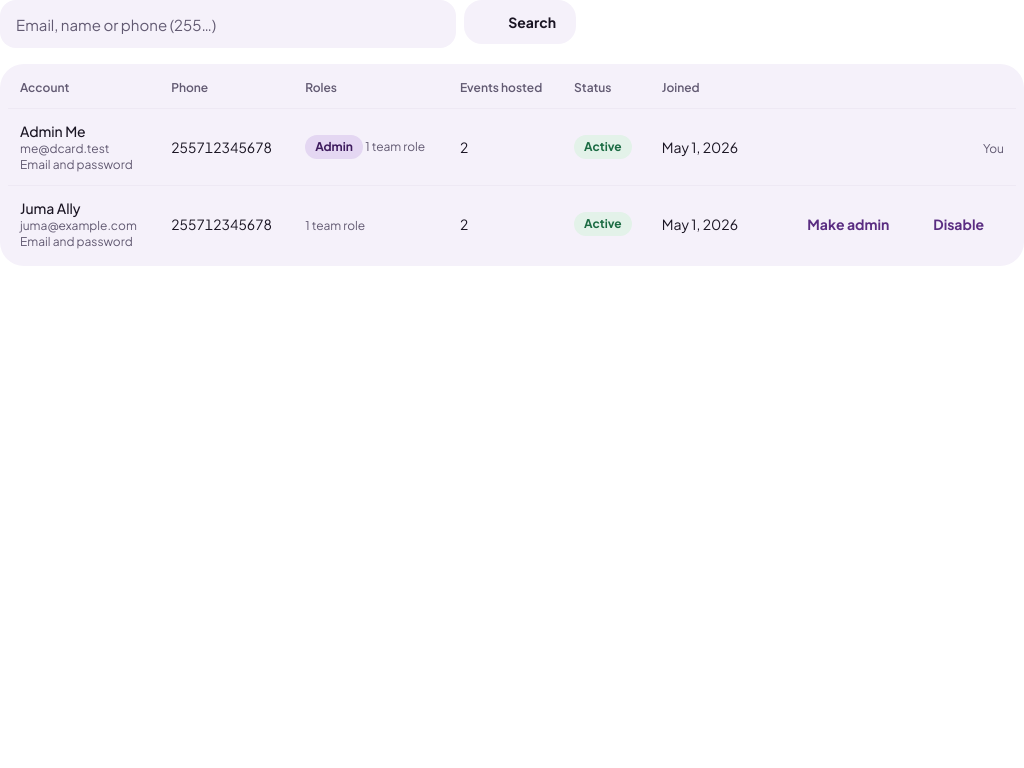
it: UsersAdmin › searches, disables with a confirm and grants admin
expect the text "Active" in the row of "Juma Ally" is shown: met, box [584, 216, 622, 231]
expect the text "You" is shown: met, box [983, 141, 1004, 156]
Click the button "Disable".
click(959, 224)  # box [913, 202, 1004, 246]
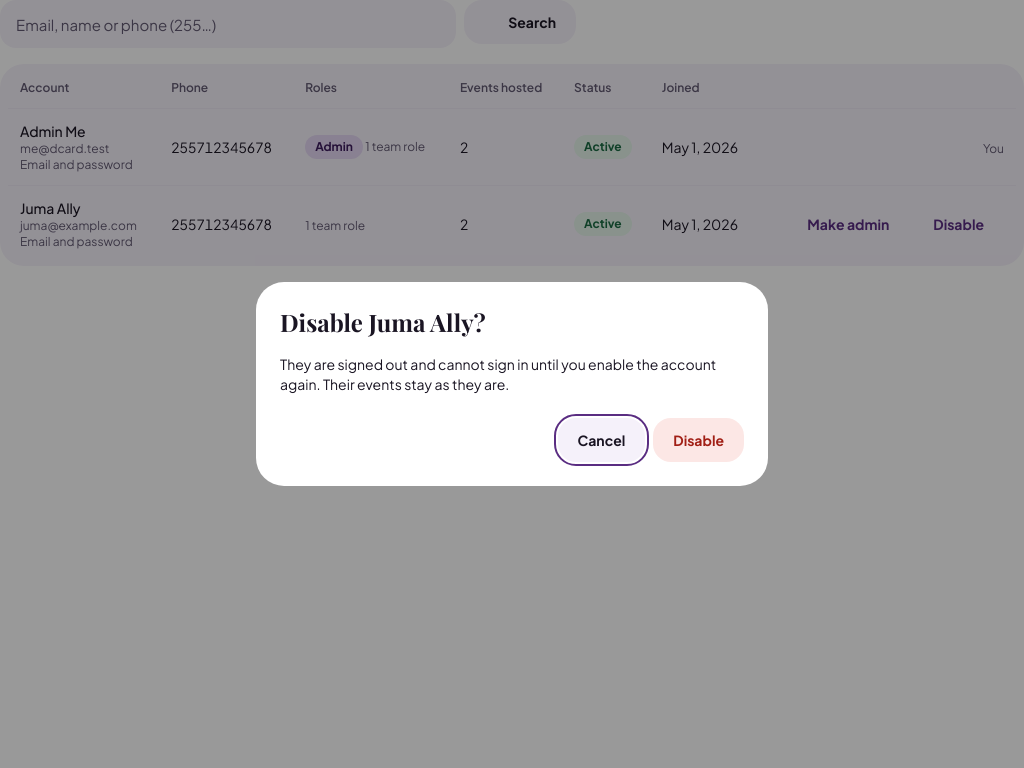
Click the button "Disable".
click(699, 440)  # box [653, 418, 744, 462]
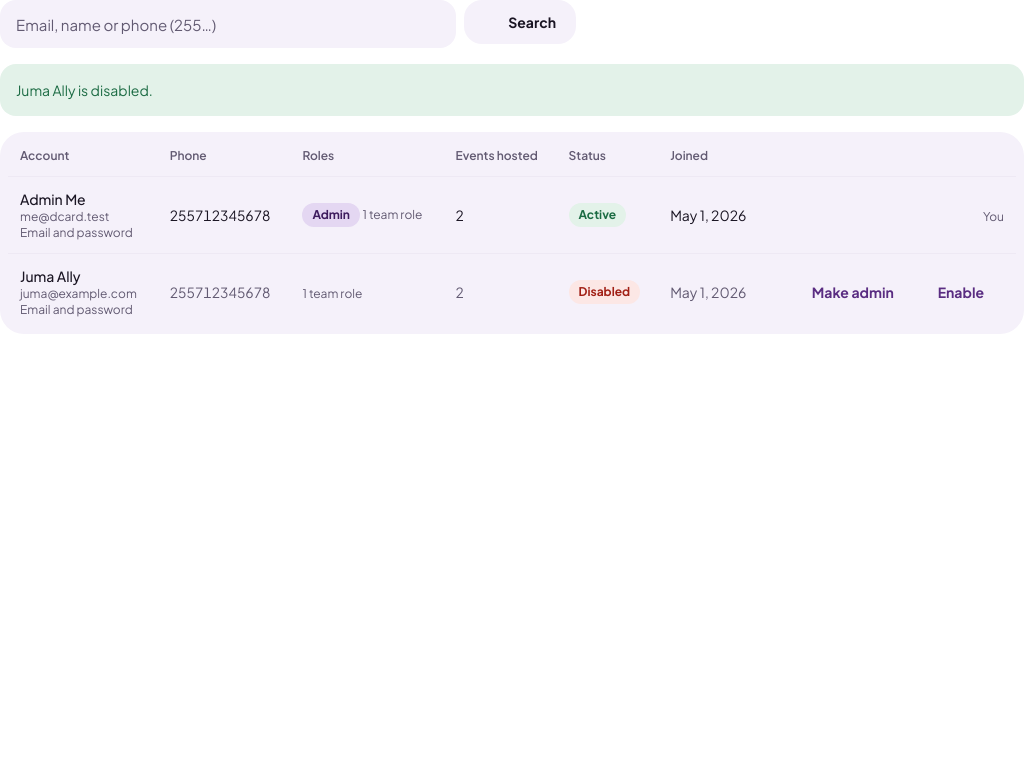
expect the text "Juma Ally is disabled." is shown: met, box [0, 64, 1023, 116]
expect the text "Disabled" is shown: met, box [569, 280, 640, 304]
expect the button "Enable" is shown: met, box [918, 270, 1004, 314]
Click the button "Make admin".
click(853, 292)  # box [792, 270, 914, 314]
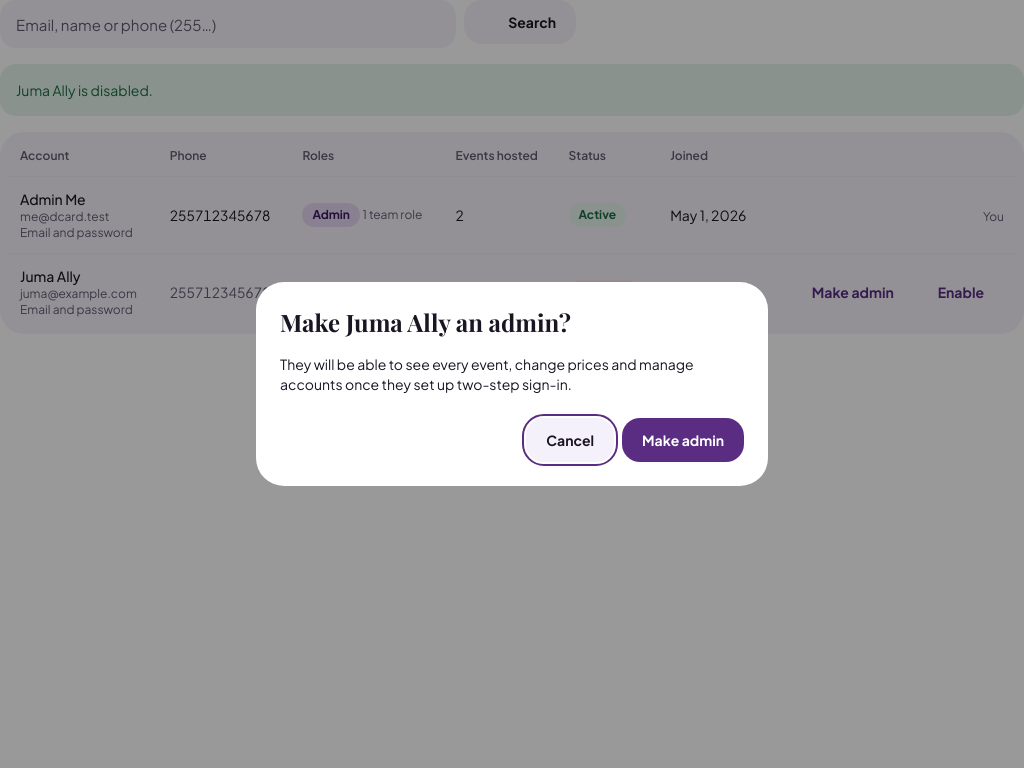
Click the button "Make admin".
click(683, 440)  # box [622, 418, 744, 462]
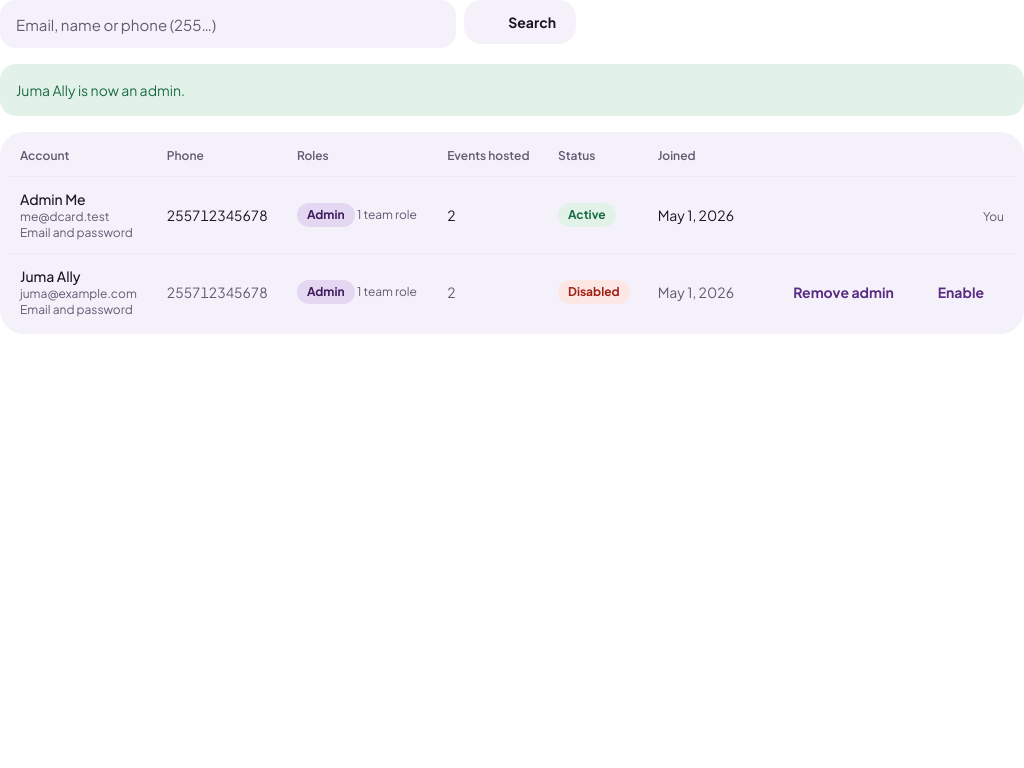
expect the text "Juma Ally is now an admin." is shown: met, box [0, 64, 1023, 116]
expect the button "Remove admin" is shown: met, box [773, 270, 914, 314]
Type "nobody" into the field named "Search users".
click(228, 24); type("nobody")  # box [0, 0, 456, 48]
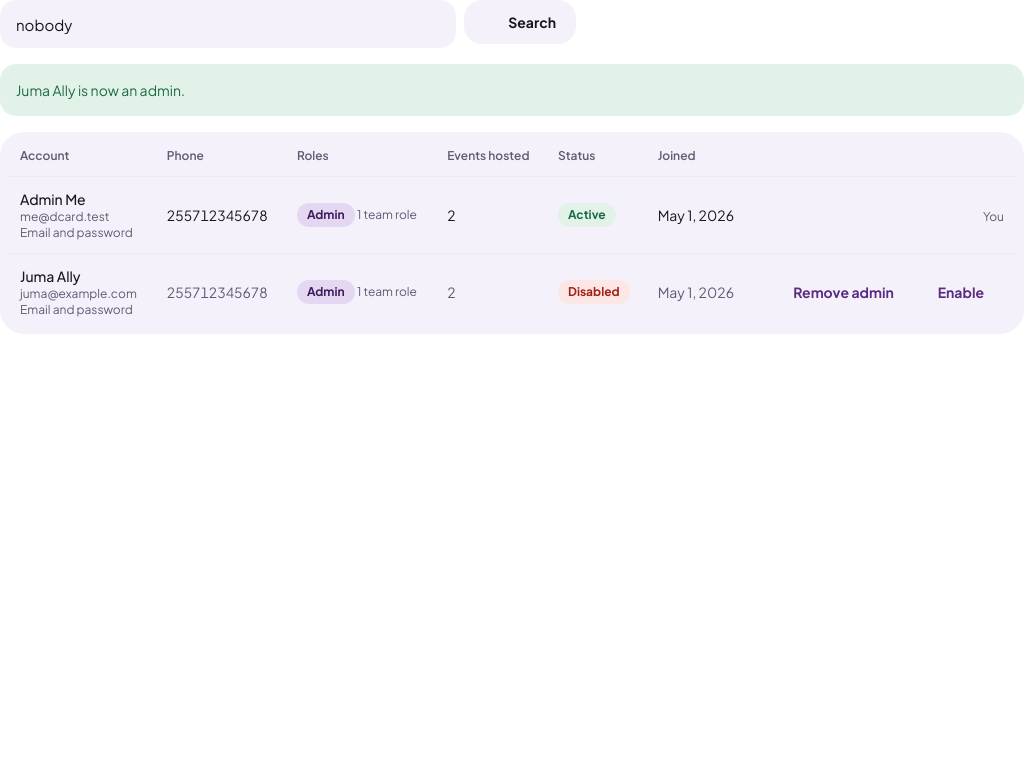
Click the button "Search".
click(520, 22)  # box [464, 0, 576, 44]
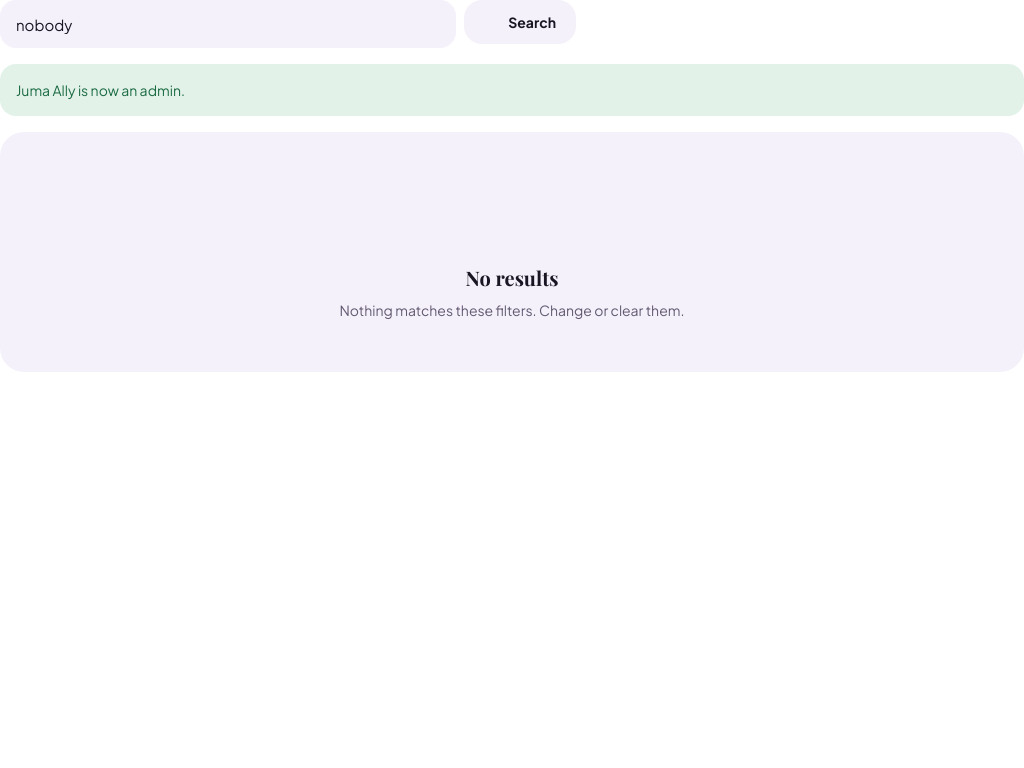
expect the text "No results" is shown: met, box [466, 264, 558, 292]
